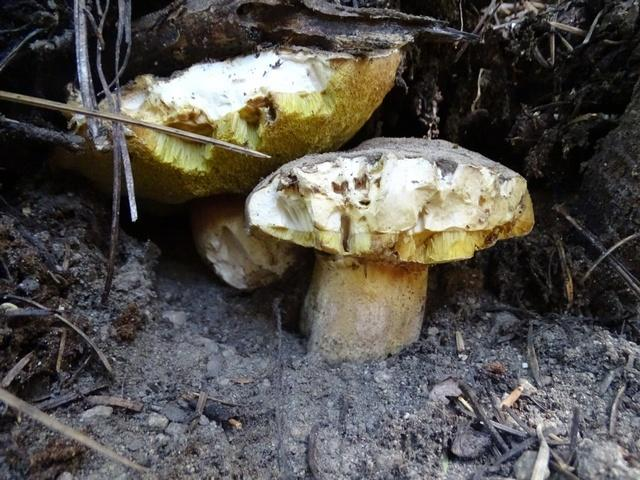Edible Mushroom: (74, 47, 409, 274), (243, 135, 535, 366)
